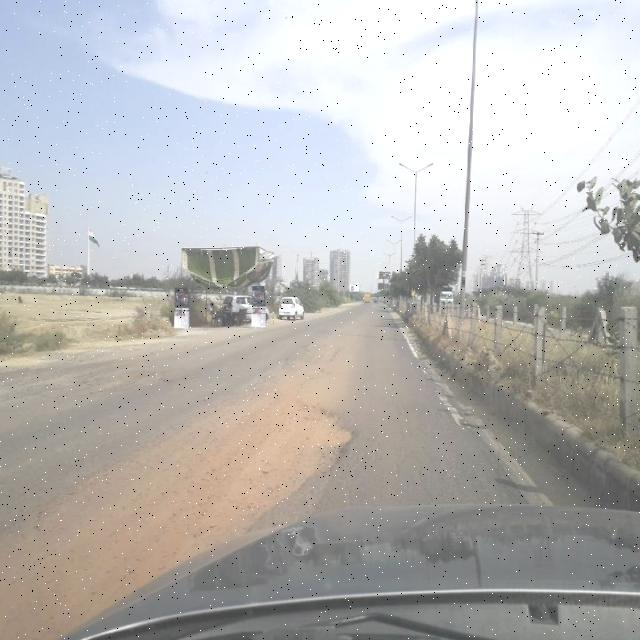D40: (20, 331, 359, 607)
D44: (413, 349, 539, 495)
